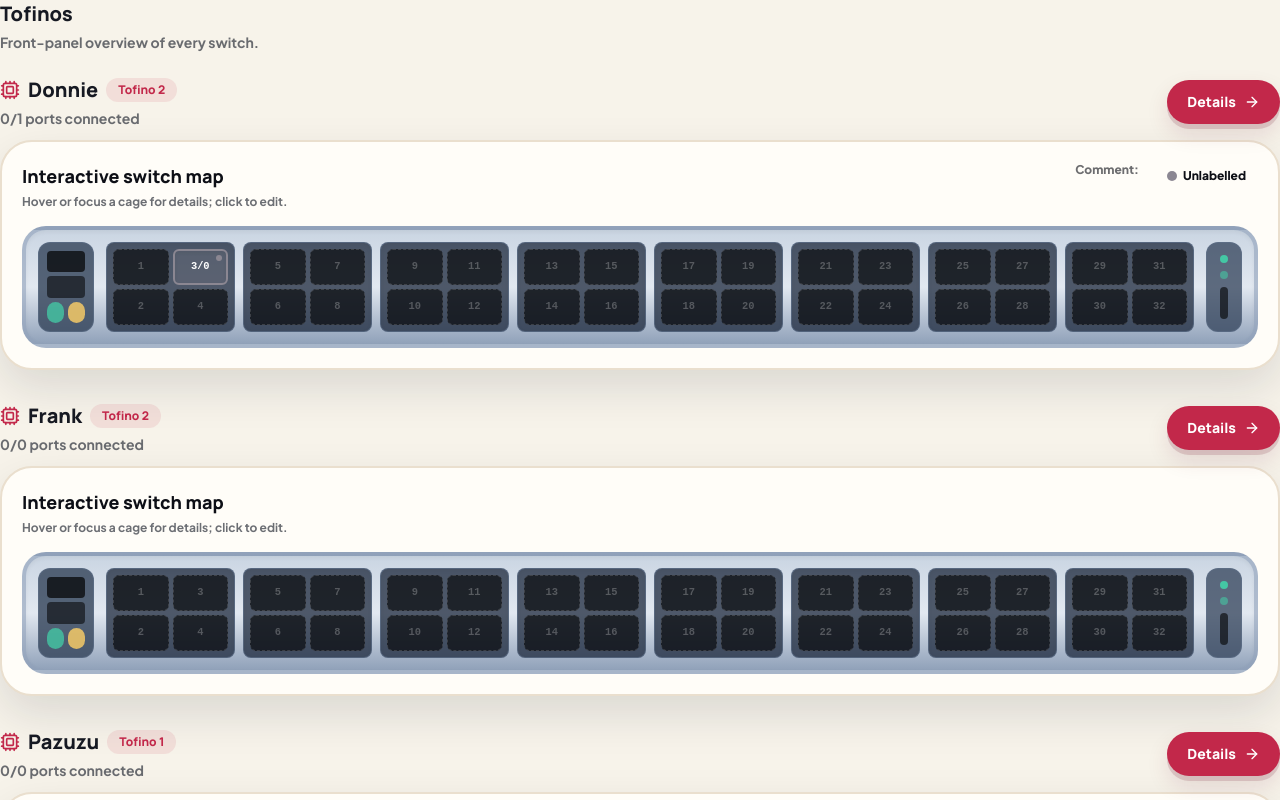
TofinosPage › opens the selected port editor from the overview for admins
Click the button named "Donnie port 3/0: not connected; activate to edit" at {"x": 200, "y": 267}, box [172,249,228,285]
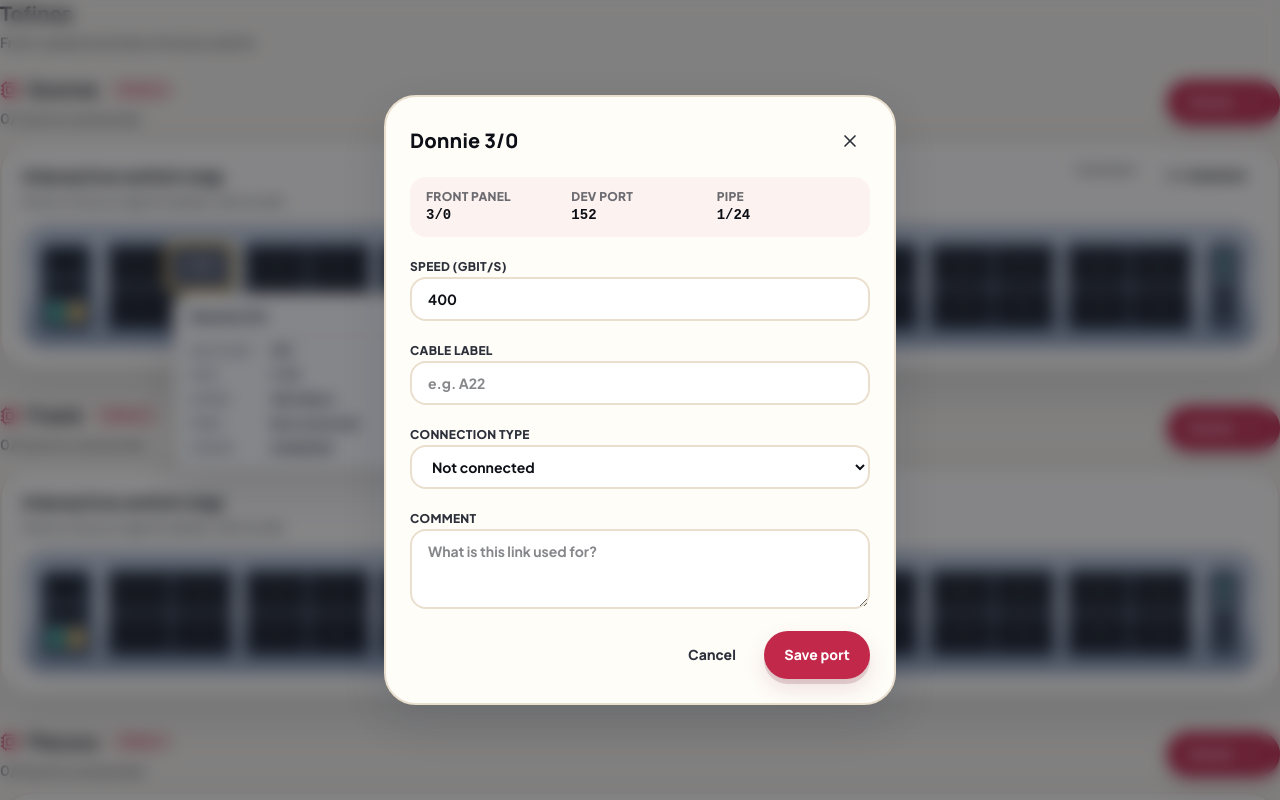
Expected: the dialog "Donnie 3/0" is shown, [384,95,896,705]
Expected: the number field showing "400" is shown, [410,277,870,321]
